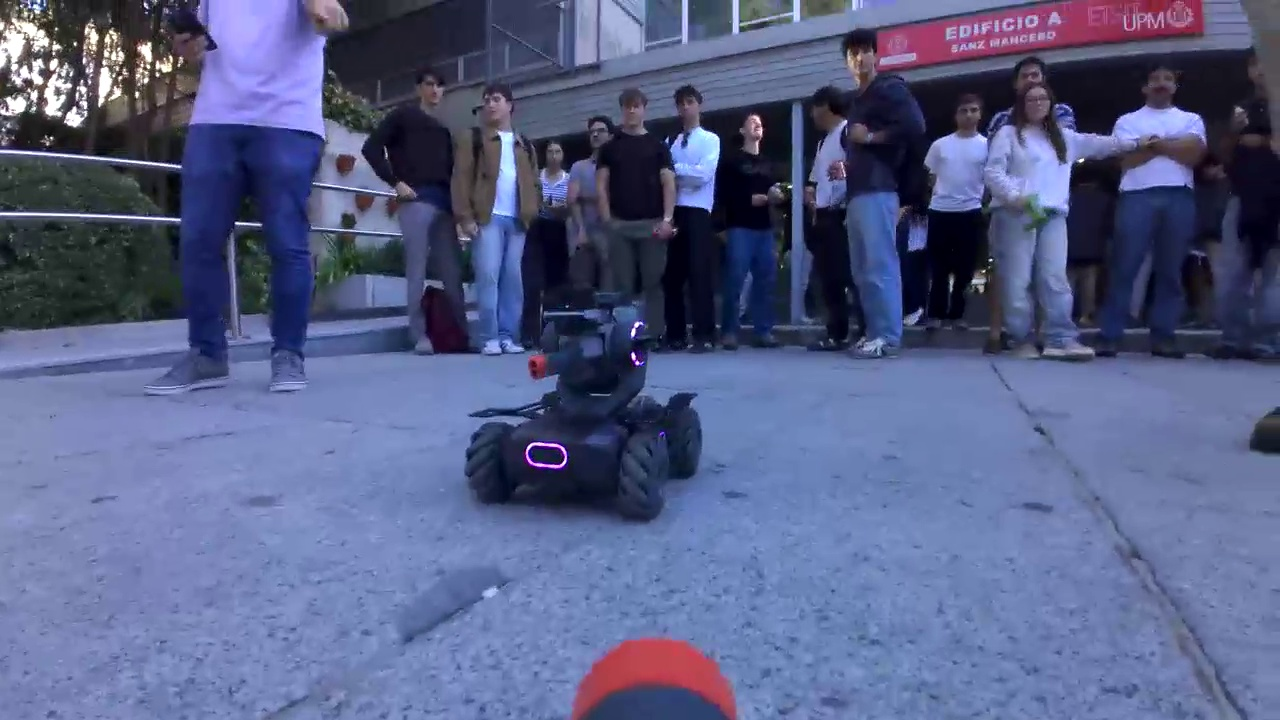robot: (464, 296, 709, 526)
